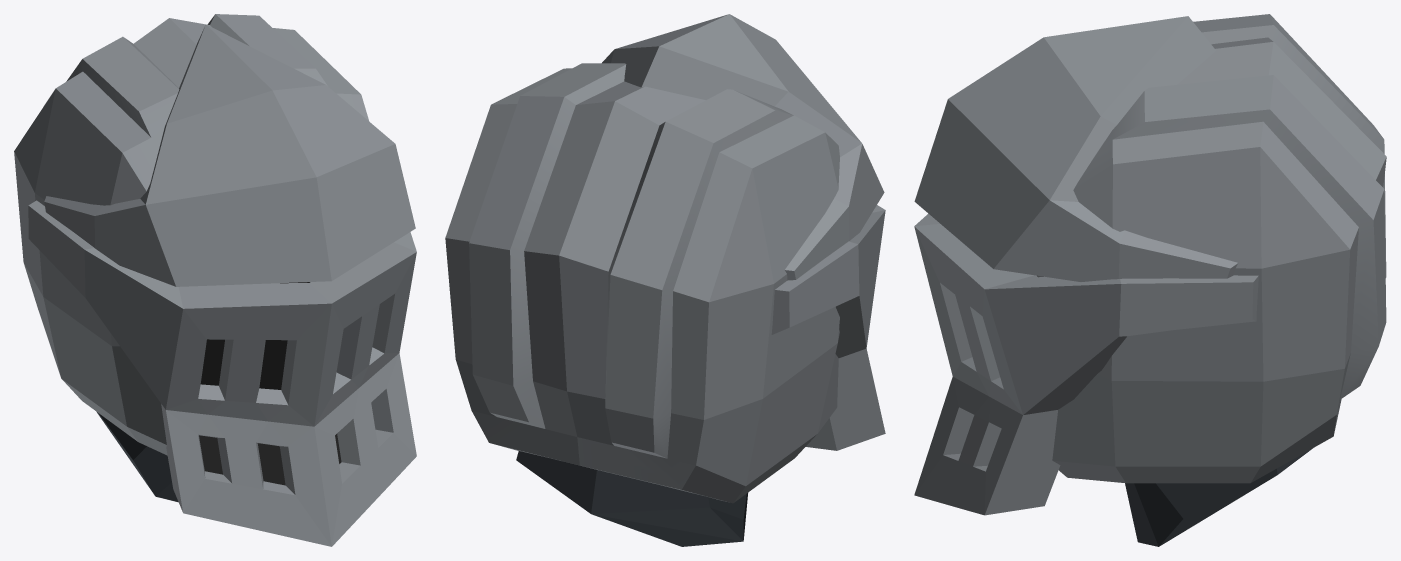
File: Chr_Head_No_Elements_Female_03_Static.fbx
3 views of the same model, side by side, from view 1: azimuth 30°, elevation 25°; view 2: azimuth 150°, elevation 25°; view 3: azimuth 270°, elevation 25° (orthographic). The views are drawn at different scales.
Parts seen in each view (by area): view 1: Chr_Head_No_Elements_Female_03_Static; view 2: Chr_Head_No_Elements_Female_03_Static; view 3: Chr_Head_No_Elements_Female_03_Static.
Part boxes in pixels (<box>): Chr_Head_No_Elements_Female_03_Static: <box>14,14,416,546</box>; Chr_Head_No_Elements_Female_03_Static: <box>445,14,885,546</box>; Chr_Head_No_Elements_Female_03_Static: <box>914,14,1386,546</box>.
Size of the model in its own units: 0.2549 by 0.3764 by 0.307.
